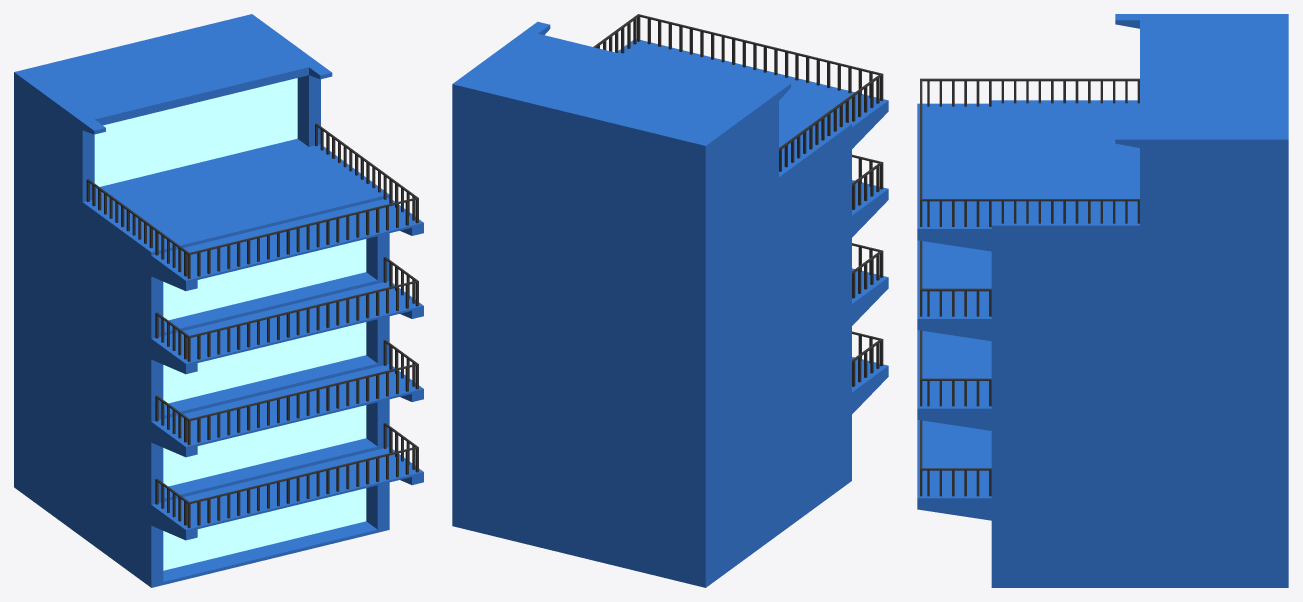
File: building_var8.fbx
3 renders of one model, left to right at view 1: azimuth 30°, elevation 25°; view 2: azimuth 150°, elevation 25°; view 3: azimuth 270°, elevation 25°, orthographic. The views are drawn at different scales.
Parts seen in each view (by area): view 1: Cube.048, Cube.049; view 2: Cube.048, Cube.049; view 3: Cube.048, Cube.049.
Part boxes in pixels (x1,y1,x2,y2): Cube.048: (14,14,423,587); Cube.049: (86,123,418,527); Cube.048: (452,21,888,587); Cube.049: (593,14,883,386); Cube.048: (917,14,1288,587); Cube.049: (920,78,1139,496).
Size of the model in its own units: 1200 by 2000 by 1500.
